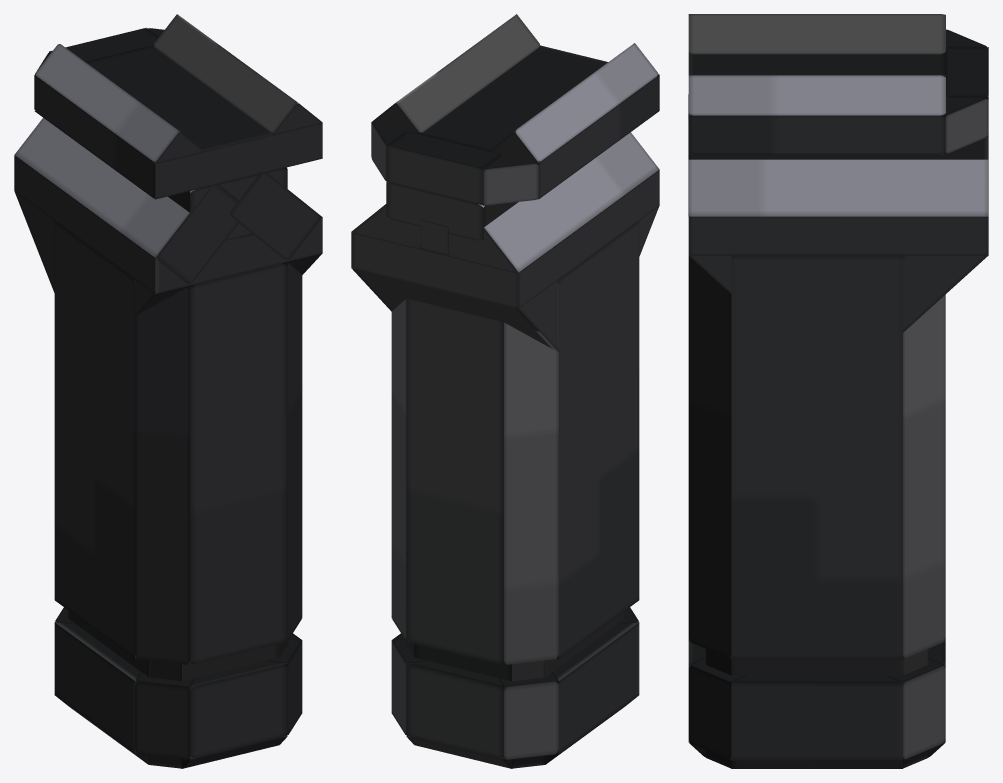
Rendered from grip_rk0 - Converted.fbx.
3 views of the same model, side by side, from view 1: azimuth 30°, elevation 25°; view 2: azimuth 150°, elevation 25°; view 3: azimuth 270°, elevation 25° (orthographic). The views are drawn at different scales.
Parts seen in each view (by area): view 1: rk2; view 2: rk2; view 3: rk2.
Boxes of the visible parts, x1,y1,x2,y2 form: rk2: [14, 14, 322, 768]; rk2: [351, 14, 659, 768]; rk2: [688, 14, 988, 768].
Size of the model in its own units: 7.5 by 27.67 by 10.96.
